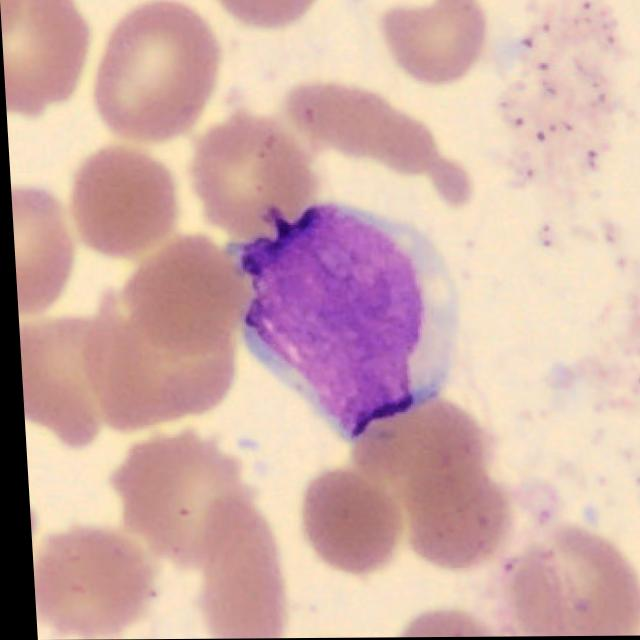Linfocito: (226, 201, 457, 437)
